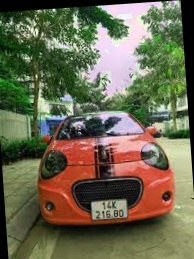Bien-so: (91, 198, 127, 217)
